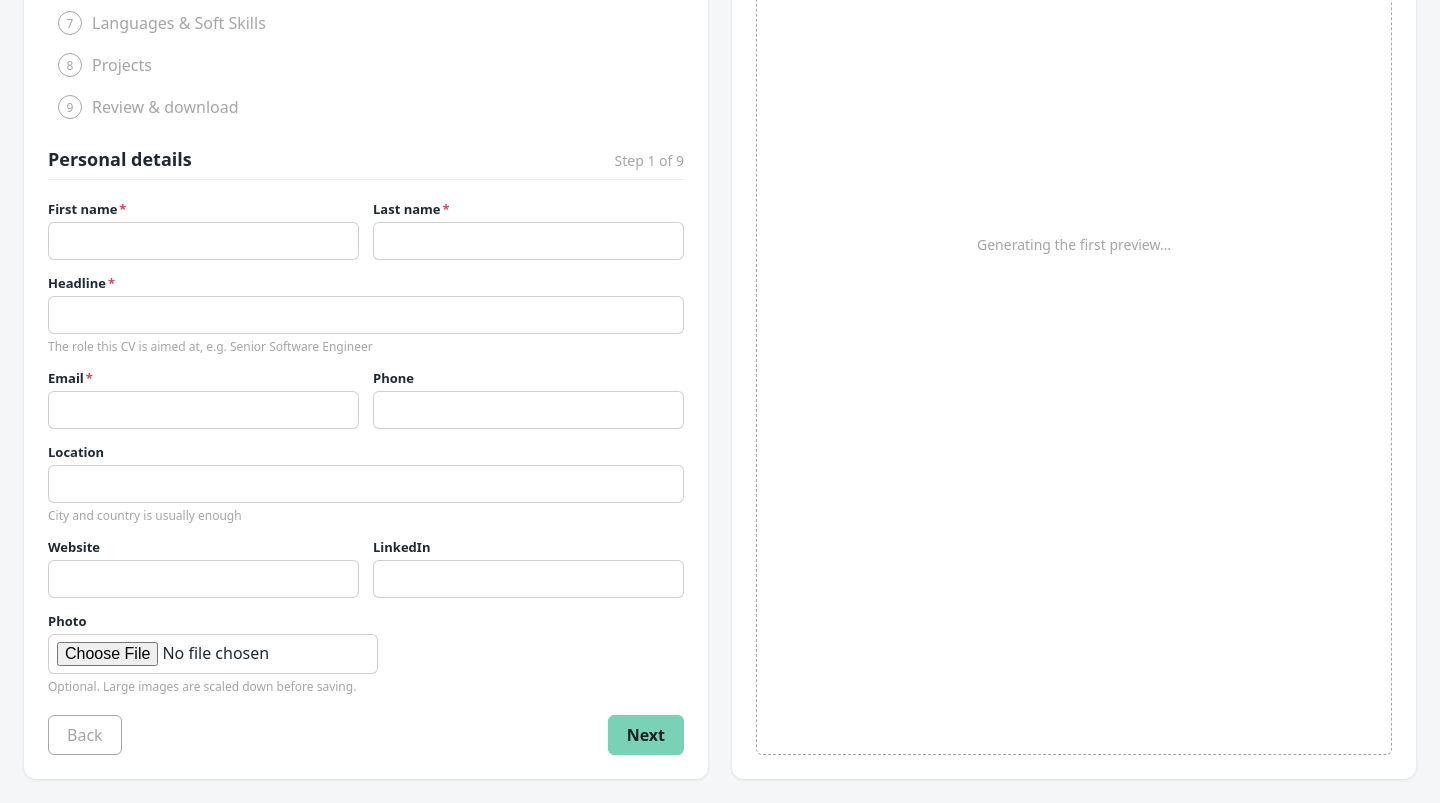
it: validation gating › blocks advancing while the step is invalid
The width and height of the screenshot is (1440, 803).
(page scrolled)
Click the button "Next".
click(646, 735)  # box 608,715 -> 684,755
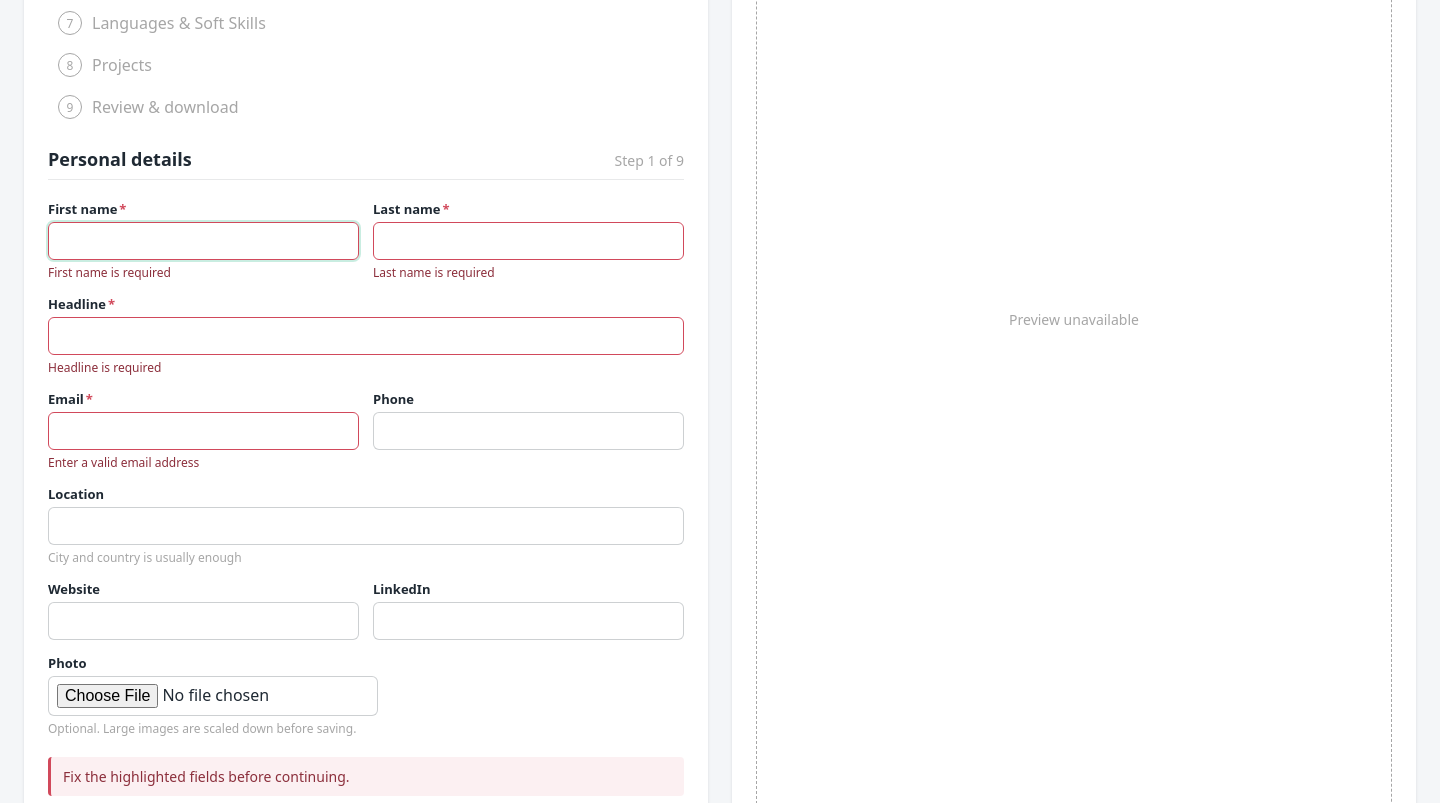
Expected: the heading "Personal details" is shown, 48,147 -> 192,171
Expected: the message reads "Fix the highlighted fields before continuing.", 63,767 -> 350,786
